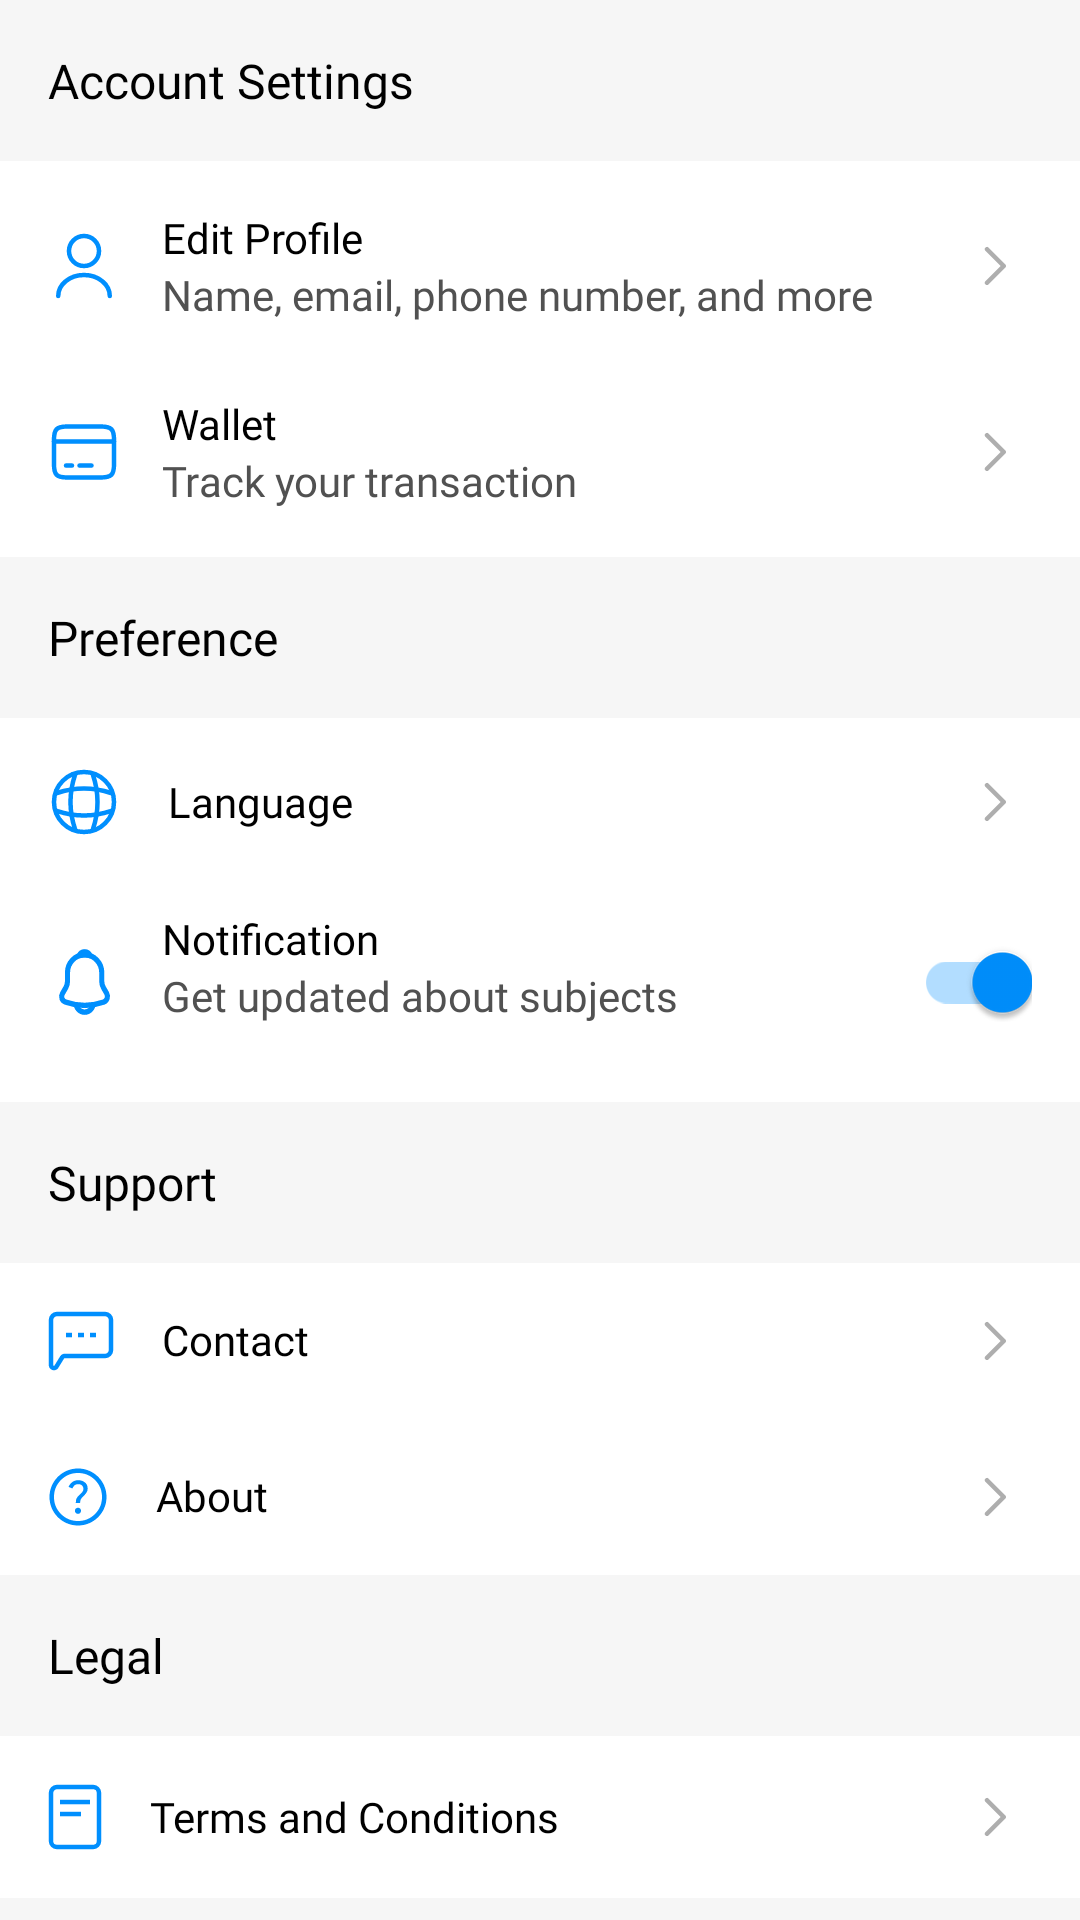

Screen size 1080×1920. Icon name, then its box in pixels as (x1, y1, x2, y2):
person: (56, 233, 112, 299)
